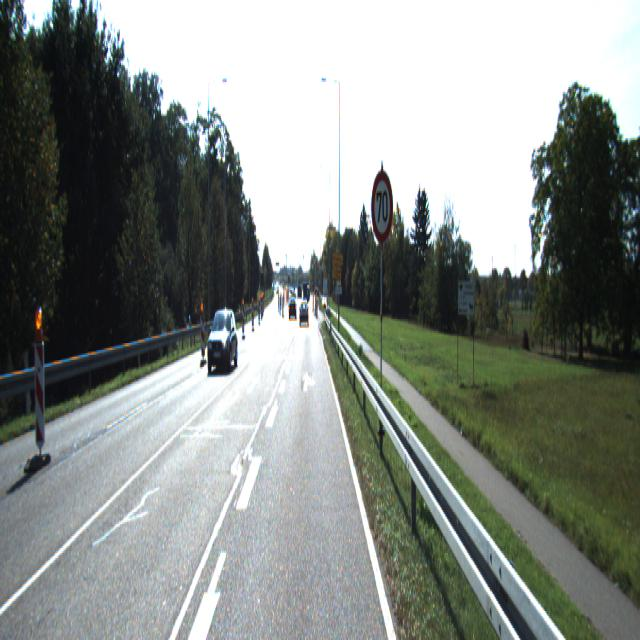Car: (207, 308, 238, 375), (299, 302, 309, 326)
